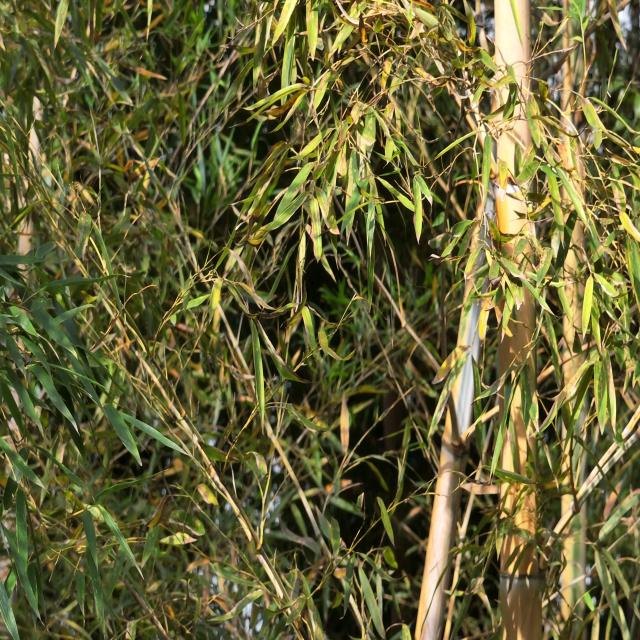Bamboo-shoots: (495, 0, 543, 640)
